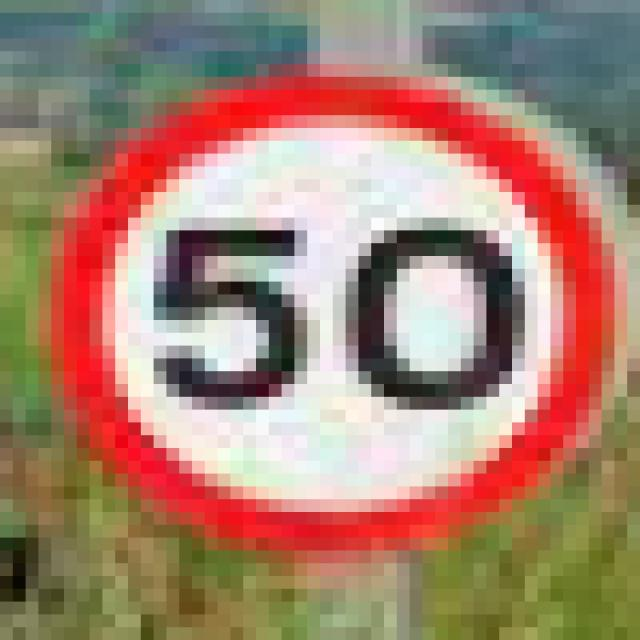Limite-50: (42, 61, 621, 548)
